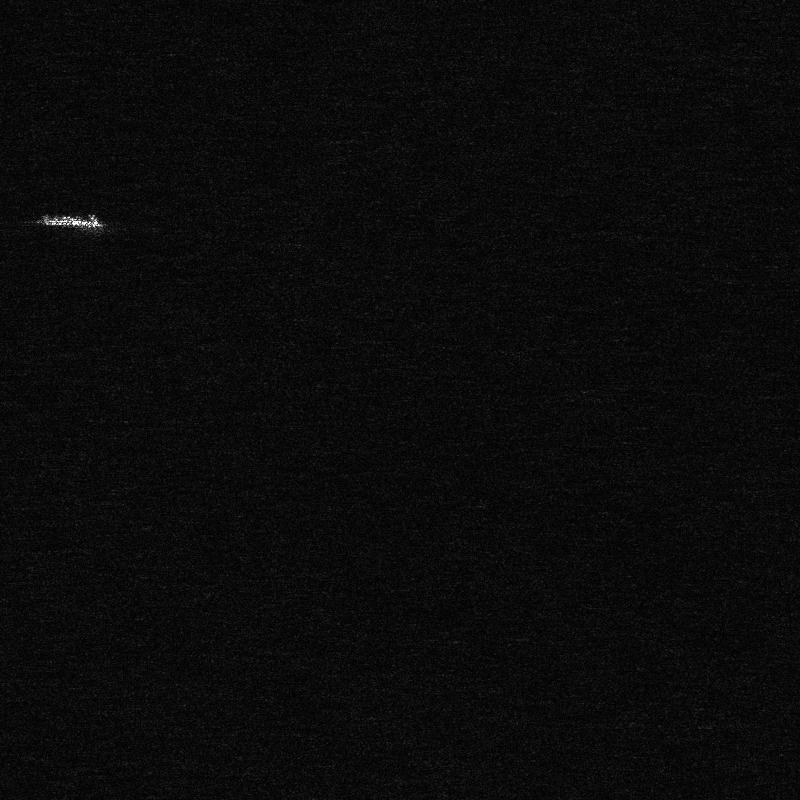ship: (39, 213, 102, 228)
